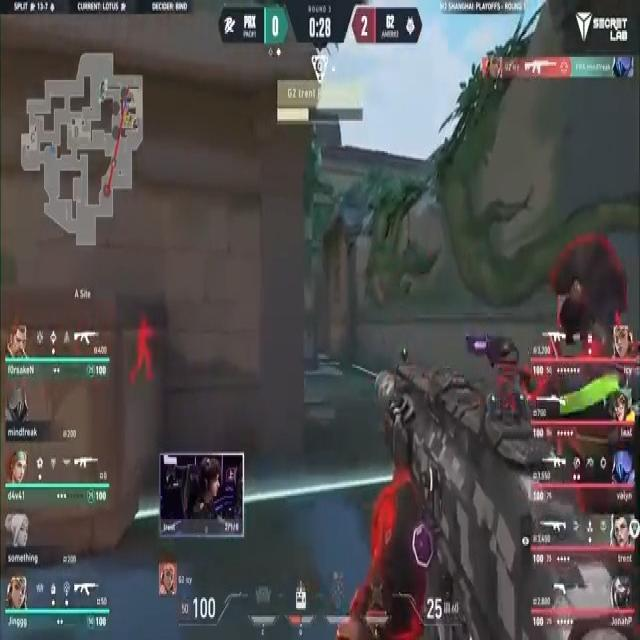enemy behind wall: (129, 316, 157, 386)
